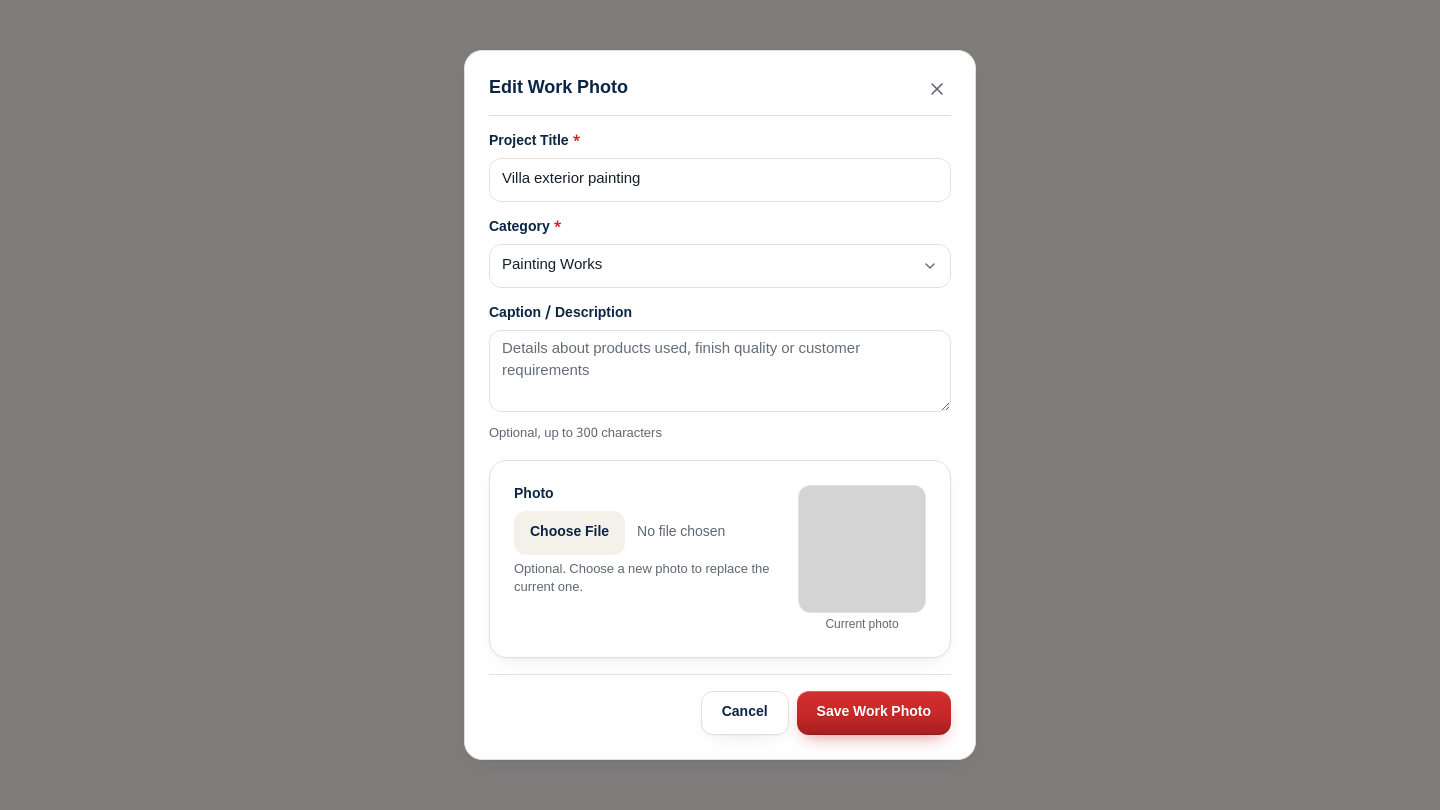
Test: GalleryForm › keeps the current photo when editing, so only the text is checked
Clear the field labelled "Project Title *": [720, 180] box [489,158,951,202]
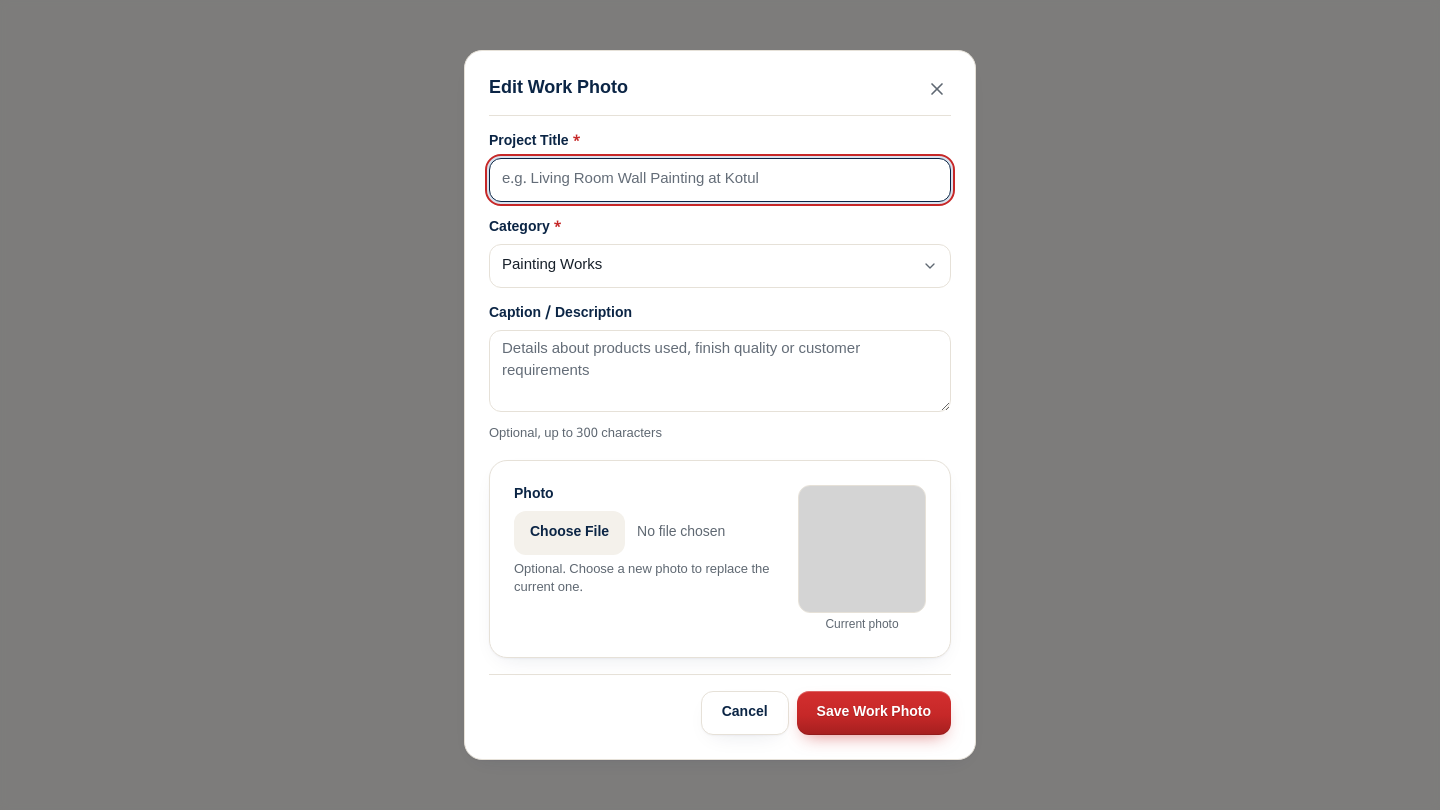
Click the button "Save Work Photo": [874, 713] box [797,691,951,735]
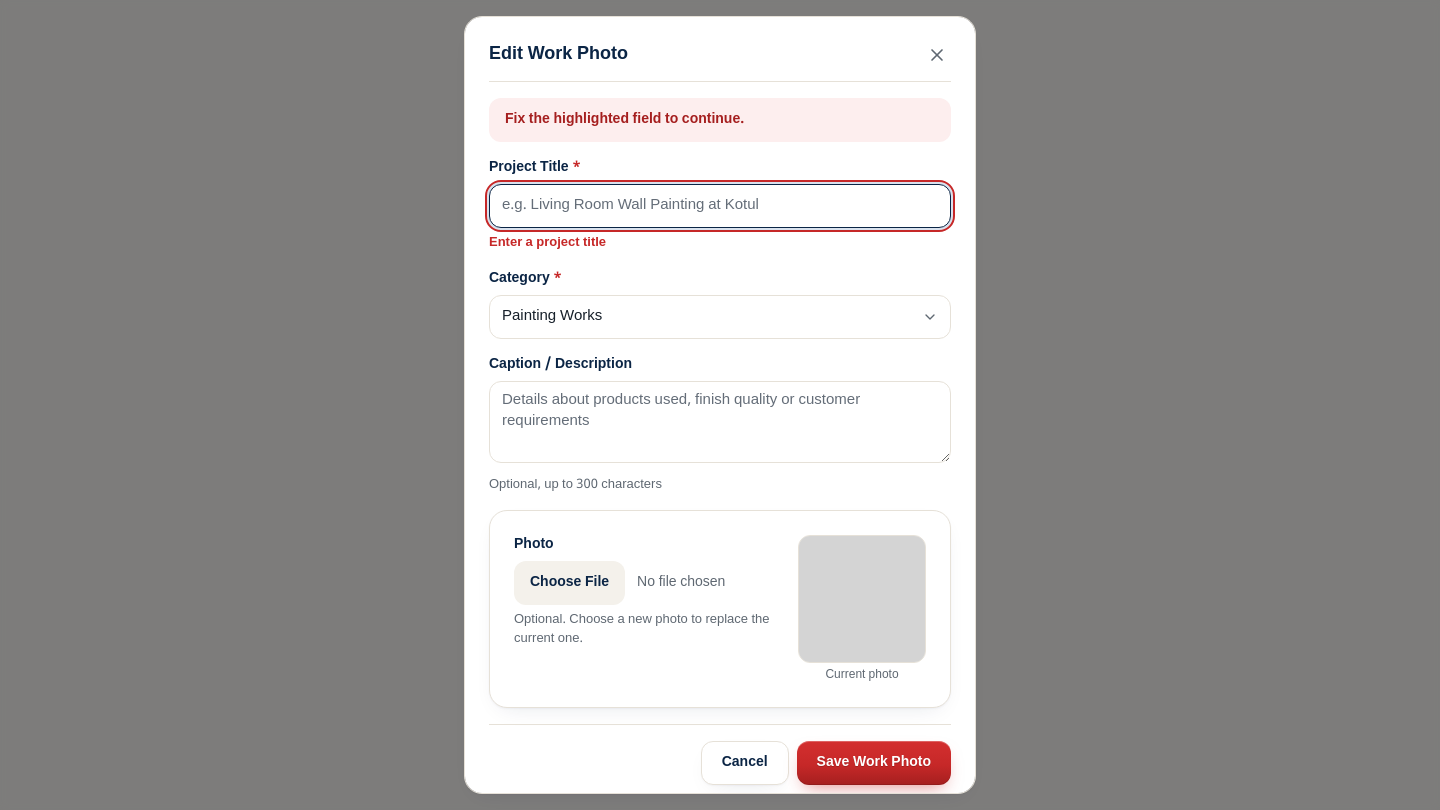
Now the message reads "Fix the highlighted field to continue.", box [505,110,744,129]
